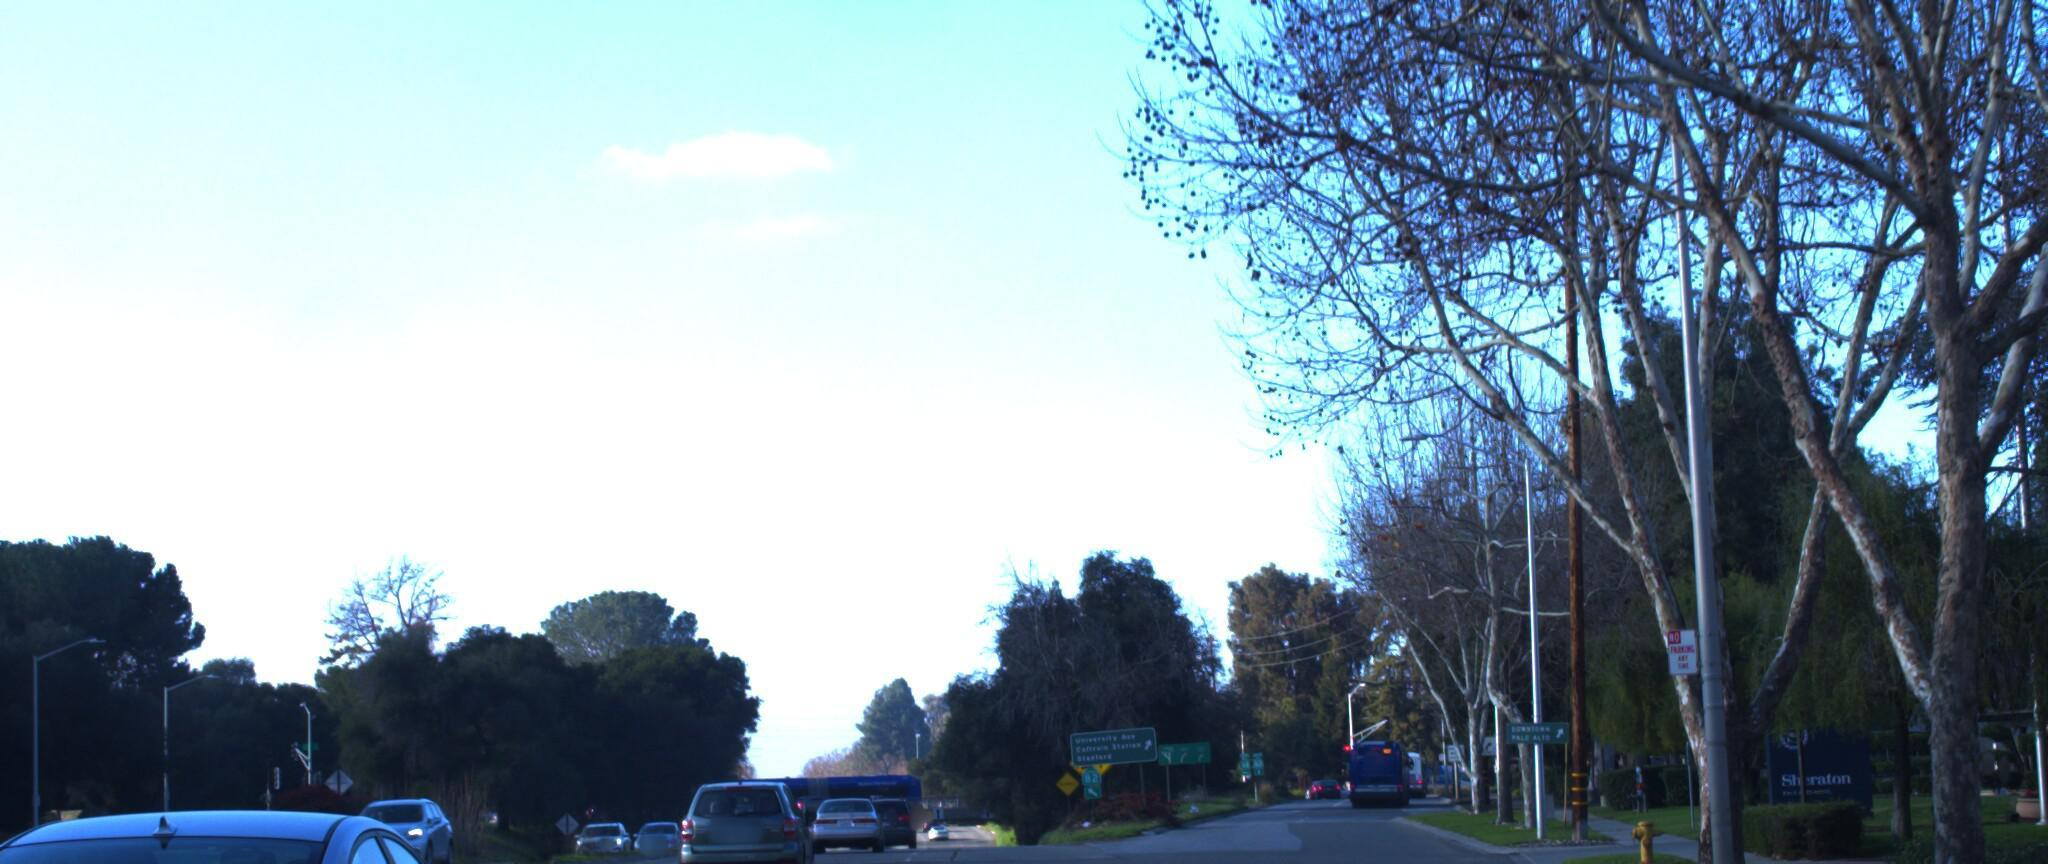car: (675, 766, 820, 864), (344, 787, 464, 864), (799, 786, 879, 848)
